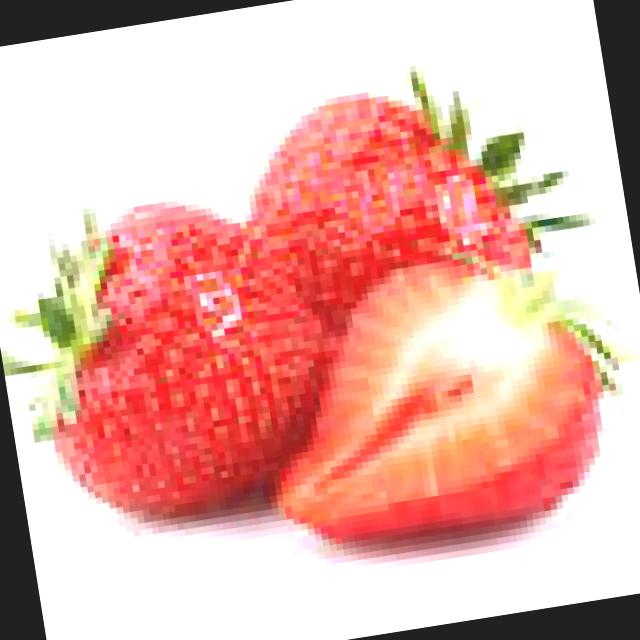strawberry: (267, 234, 623, 558), (19, 196, 332, 534)
